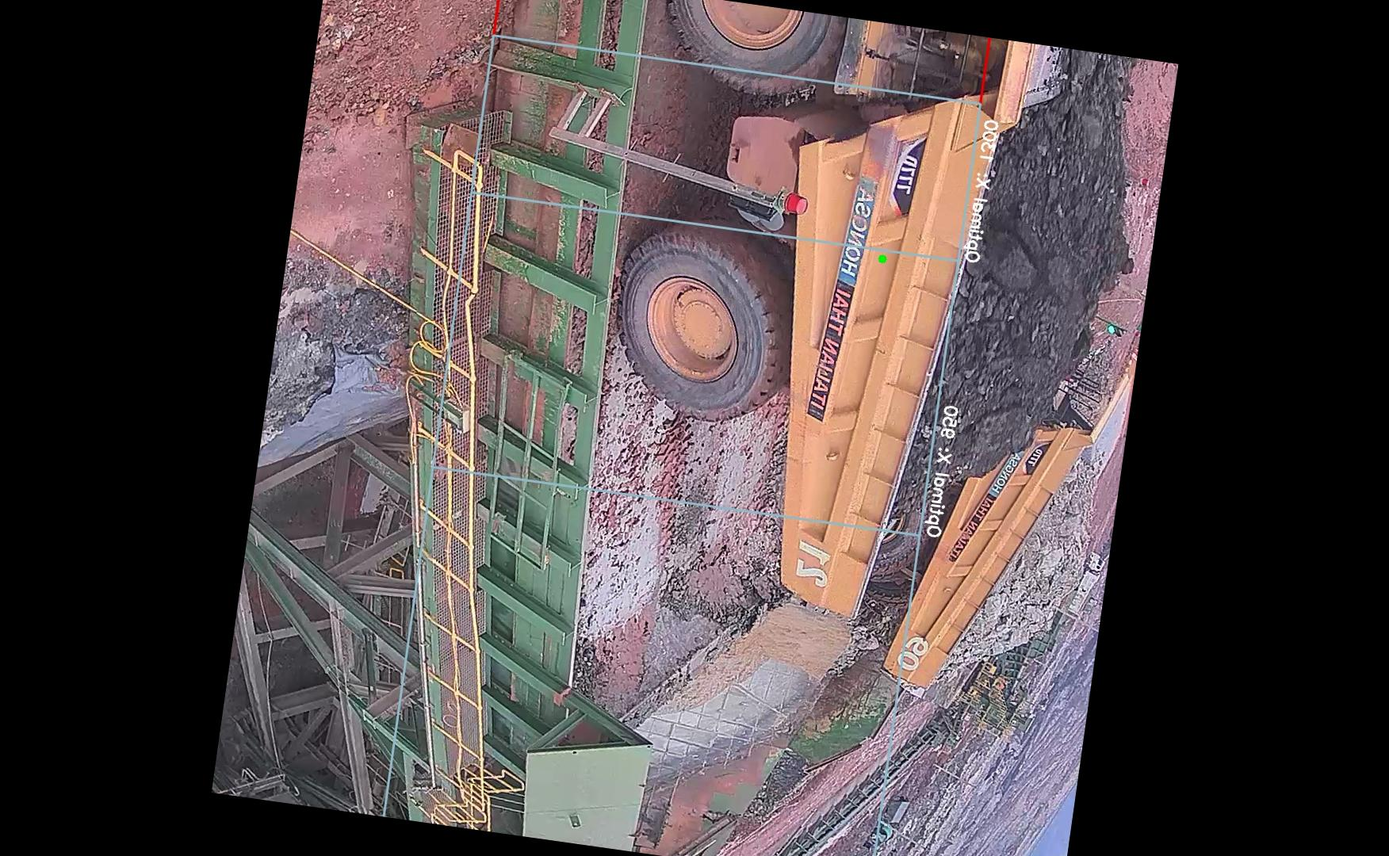company: (803, 160, 889, 436)
full_load: (913, 86, 1152, 512)
mining_truck: (571, 0, 1167, 654)
tail_number: (782, 534, 839, 593)
truck_size: (888, 142, 930, 199)
